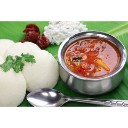idly: (21, 50, 58, 90), (1, 58, 26, 107), (5, 40, 43, 72)
